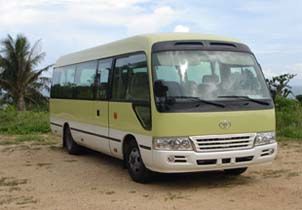midcar: (42, 40, 289, 187)
